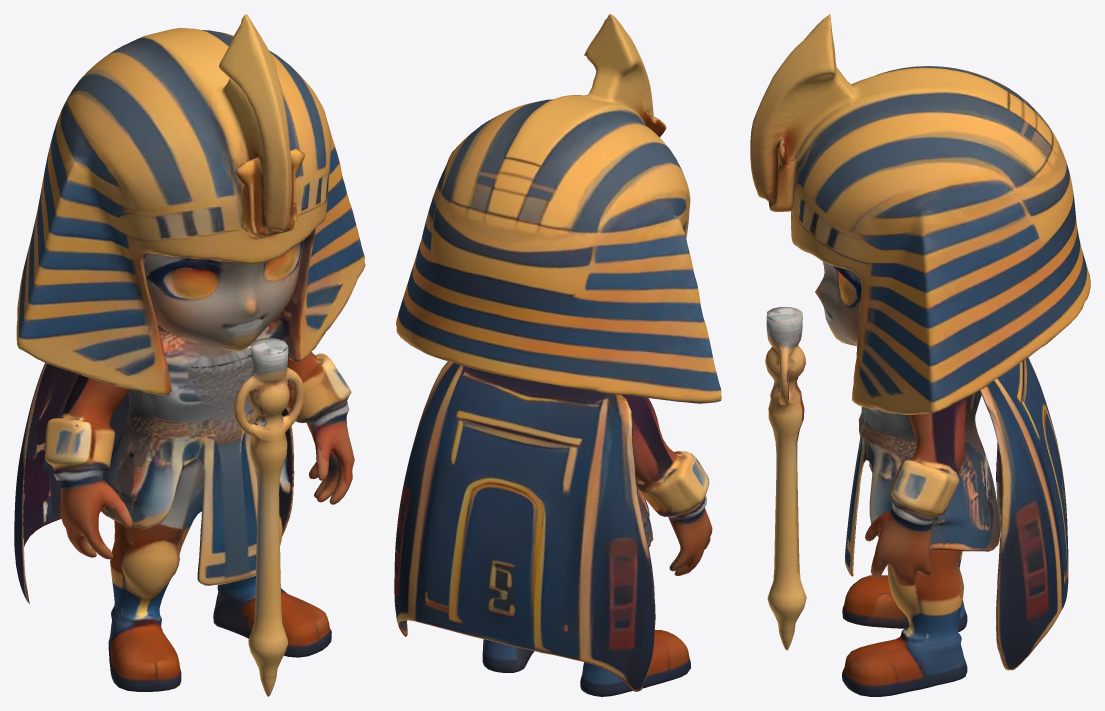
The model's file is desert_pharaoh.glb.
3 renders of one model, left to right at view 1: azimuth 30°, elevation 25°; view 2: azimuth 150°, elevation 25°; view 3: azimuth 270°, elevation 25°, orthographic. The views are drawn at different scales.
Visible parts, largest first — view 1: model; view 2: model; view 3: model.
Part boxes in pixels (left/top/right/bottom): model: left=14, top=14, right=365, bottom=696; model: left=394, top=14, right=721, bottom=696; model: left=750, top=14, right=1090, bottom=696.
Size of the model in its own units: 1.03 by 1.89 by 0.9173.
Materials: 1 (1 with a texture image).
